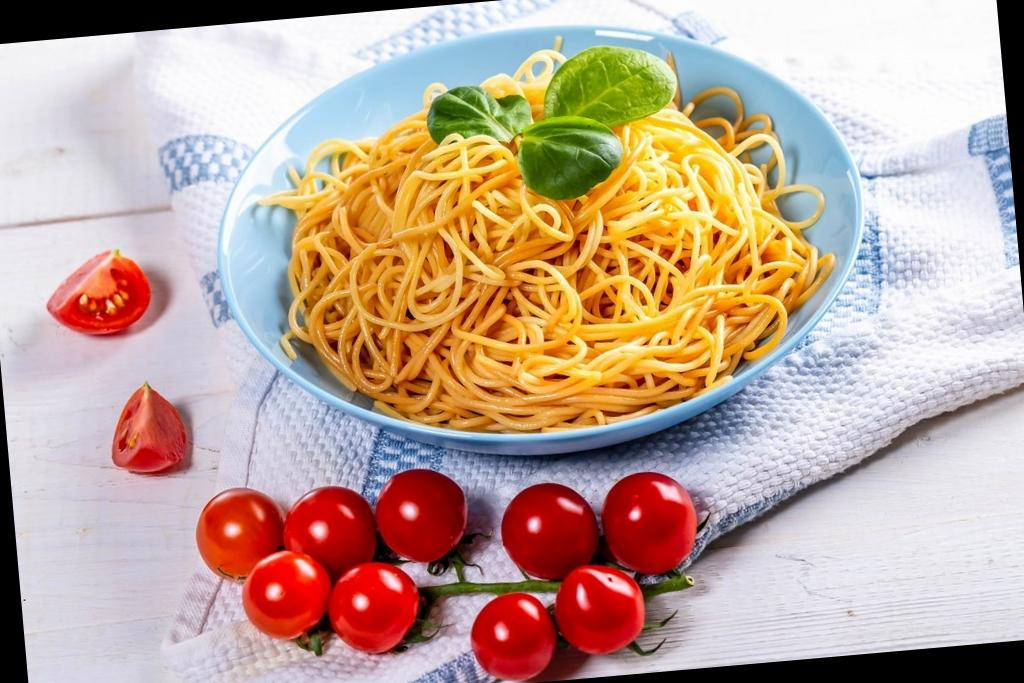reference_object: (212, 5, 868, 469)
